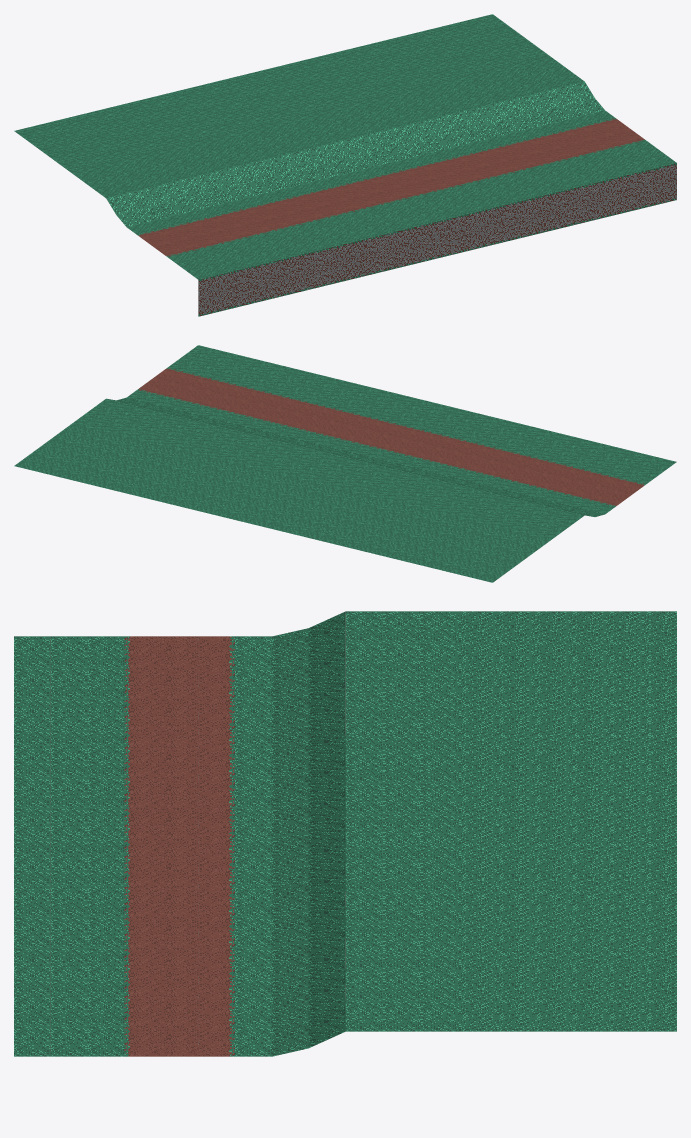
The model's file is GrassFieldBackground.gltf.
The picture shows the model from 3 angles, top to bottom: view 1: azimuth 30°, elevation 25°; view 2: azimuth 150°, elevation 25°; view 3: azimuth 270°, elevation 25°; orthographic projection. The views are drawn at different scales.
Bounding box in the file's own units: 54 × 5.5 × 36.
1 material, 1 textured.
